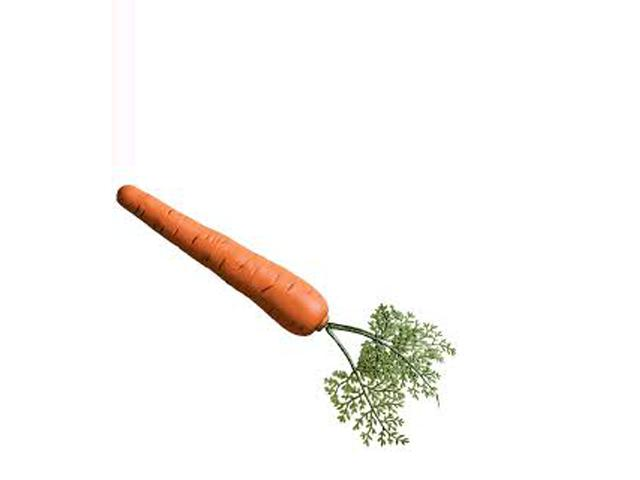carrot: (105, 177, 350, 342)
